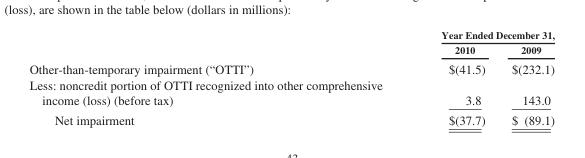table: (28, 28, 554, 126)
table column: (28, 28, 411, 126), (411, 28, 497, 126), (497, 28, 554, 126)
table column header: (28, 28, 554, 58)
table row: (28, 76, 554, 109), (28, 58, 554, 76), (28, 109, 554, 126), (28, 42, 554, 58), (28, 28, 554, 42)
table spanning cell: (411, 28, 554, 42)
